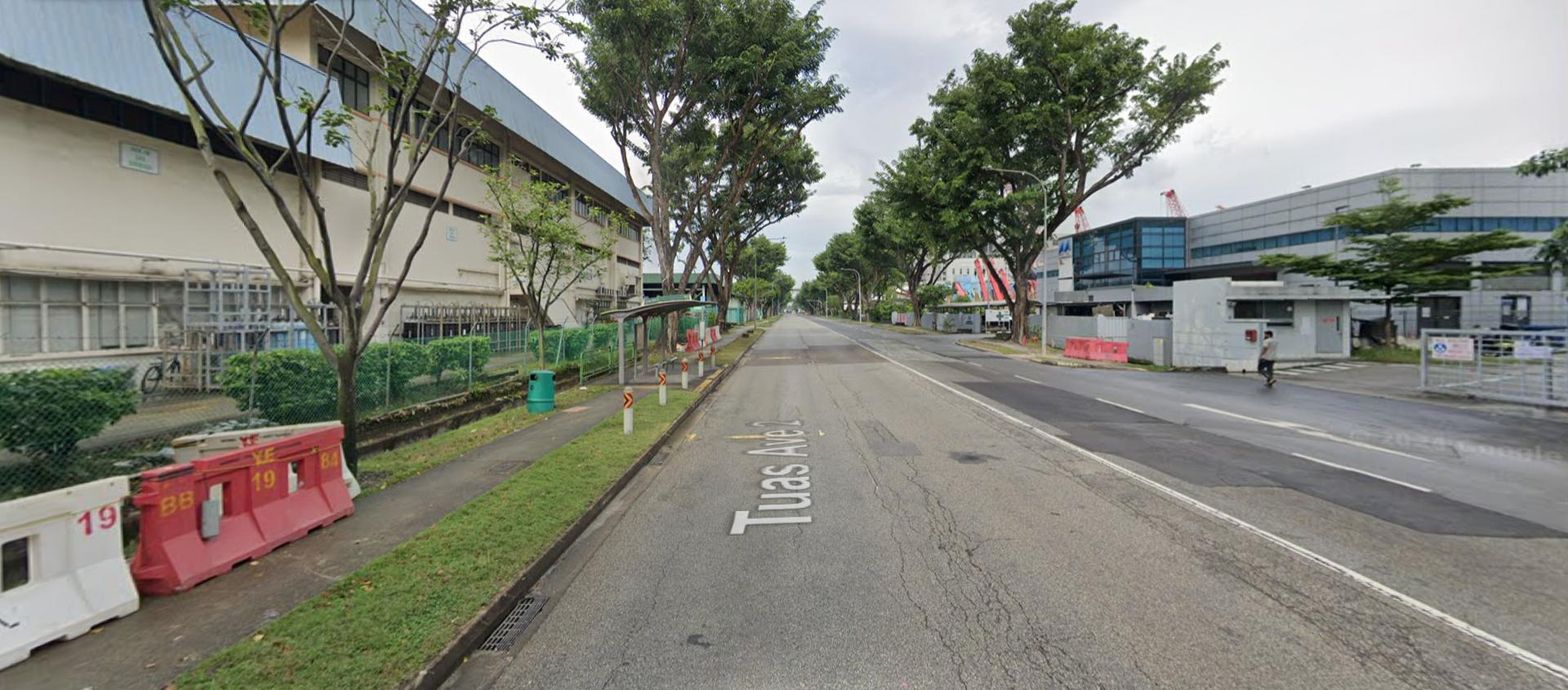defect: (477, 596, 552, 651)
